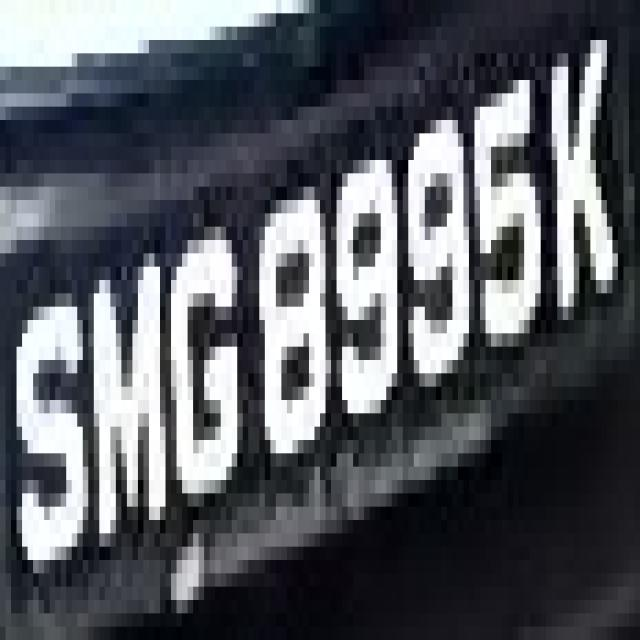5: (469, 40, 546, 360)
8: (232, 174, 336, 454)
9: (397, 93, 491, 427), (326, 134, 402, 454)
G: (144, 186, 238, 546)
K: (535, 54, 629, 334)
M: (66, 253, 182, 520)
S: (0, 266, 94, 640)
